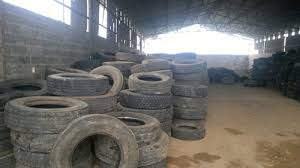tire: (51, 114, 139, 168), (5, 96, 88, 133), (47, 72, 110, 96), (1, 78, 54, 102), (112, 112, 163, 136), (127, 72, 172, 94), (171, 121, 204, 139), (167, 59, 209, 73)
